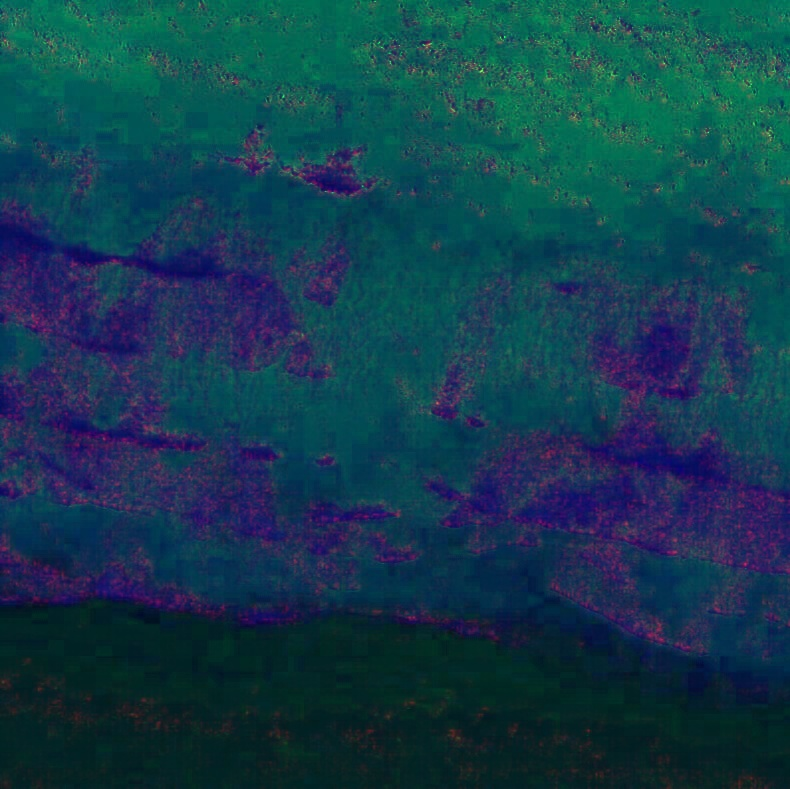rip_current: (236, 236, 568, 593)
